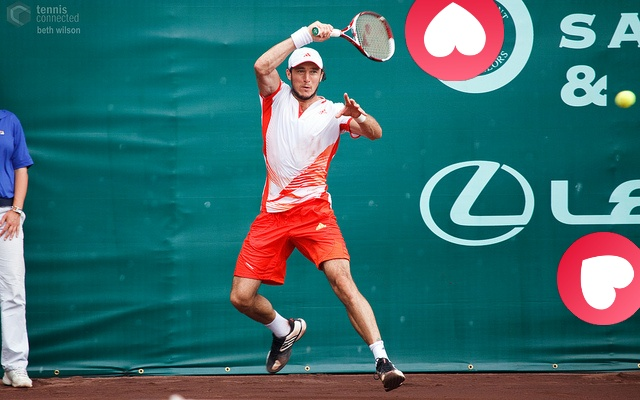love: (405, 0, 504, 81), (557, 232, 640, 325)
